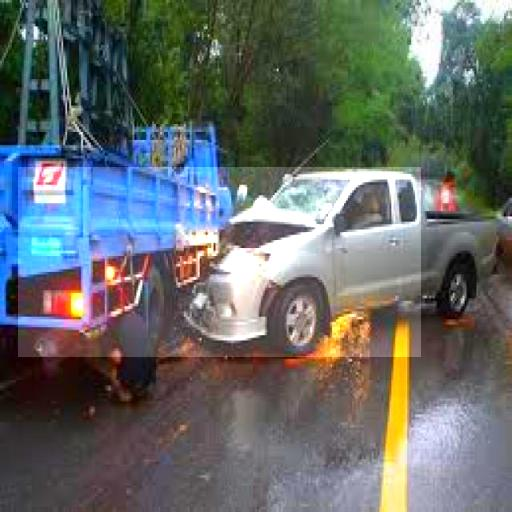小汽车撞小汽车: (18, 167, 421, 357)
